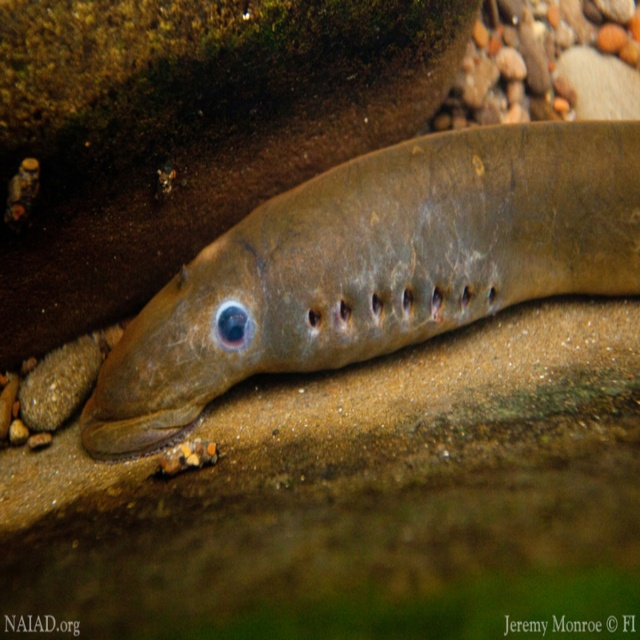Fish: (75, 116, 639, 460)
